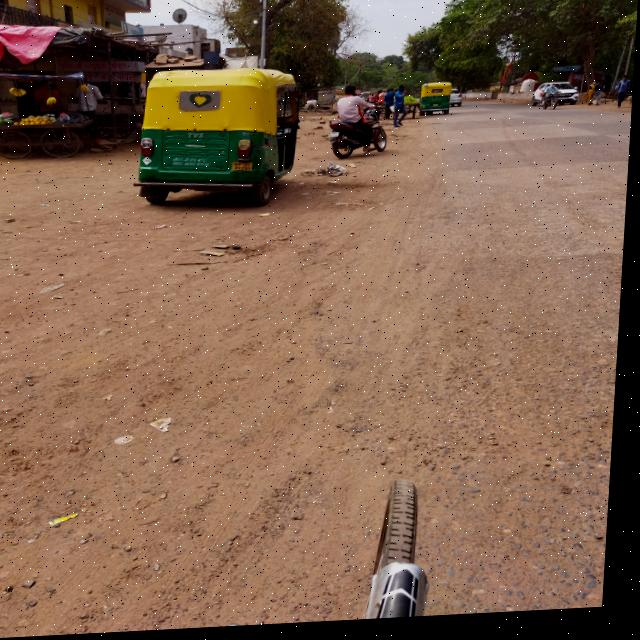plate: (234, 163, 256, 177)
